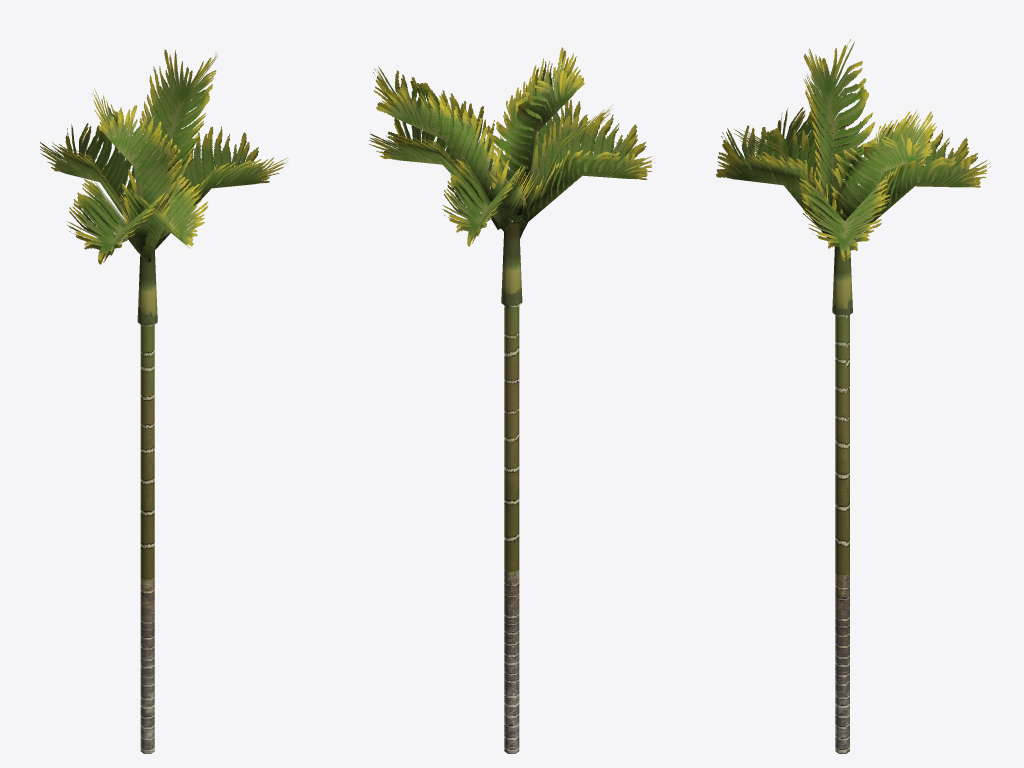
The model's file is flora_tree_palm_areca_v3.glb.
3 views of the same model, side by side, from view 1: azimuth 30°, elevation 25°; view 2: azimuth 150°, elevation 25°; view 3: azimuth 270°, elevation 25° (orthographic). The views are drawn at different scales.
Visible parts, largest first — view 1: flora_tree_palm_areca_v3_part0; view 2: flora_tree_palm_areca_v3_part0; view 3: flora_tree_palm_areca_v3_part0.
Part boxes in pixels (left/top/right/bottom): flora_tree_palm_areca_v3_part0: left=40, top=49, right=288, bottom=753; flora_tree_palm_areca_v3_part0: left=369, top=47, right=654, bottom=753; flora_tree_palm_areca_v3_part0: left=716, top=39, right=990, bottom=753.
Size of the model in its own units: 10.52 by 26.37 by 10.34.
1 material, 1 textured.
